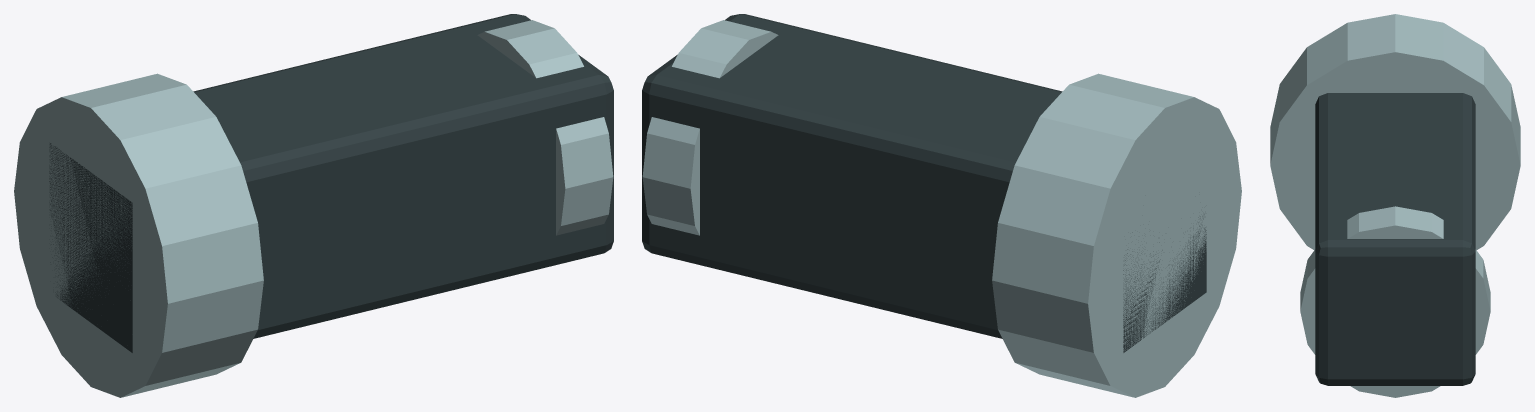
The model's file is forearm.glb.
3 renders of one model, left to right at view 1: azimuth 30°, elevation 25°; view 2: azimuth 150°, elevation 25°; view 3: azimuth 270°, elevation 25°, orthographic. The views are drawn at different scales.
Parts seen in each view (by area): view 1: beam, elbow_axis, wrist_cap; view 2: beam, elbow_axis, wrist_cap; view 3: beam, elbow_axis, wrist_cap.
Boxes of the visible parts, x1,y1,x2,y2 form: beam: [49, 14, 613, 352]; elbow_axis: [14, 73, 263, 397]; wrist_cap: [477, 20, 613, 235]; beam: [642, 14, 1206, 352]; elbow_axis: [992, 73, 1241, 397]; wrist_cap: [642, 20, 778, 235]; beam: [1315, 93, 1475, 385]; elbow_axis: [1270, 14, 1520, 250]; wrist_cap: [1300, 206, 1490, 397].
Size of the model in its own units: 0.18 by 0.1 by 0.1.
